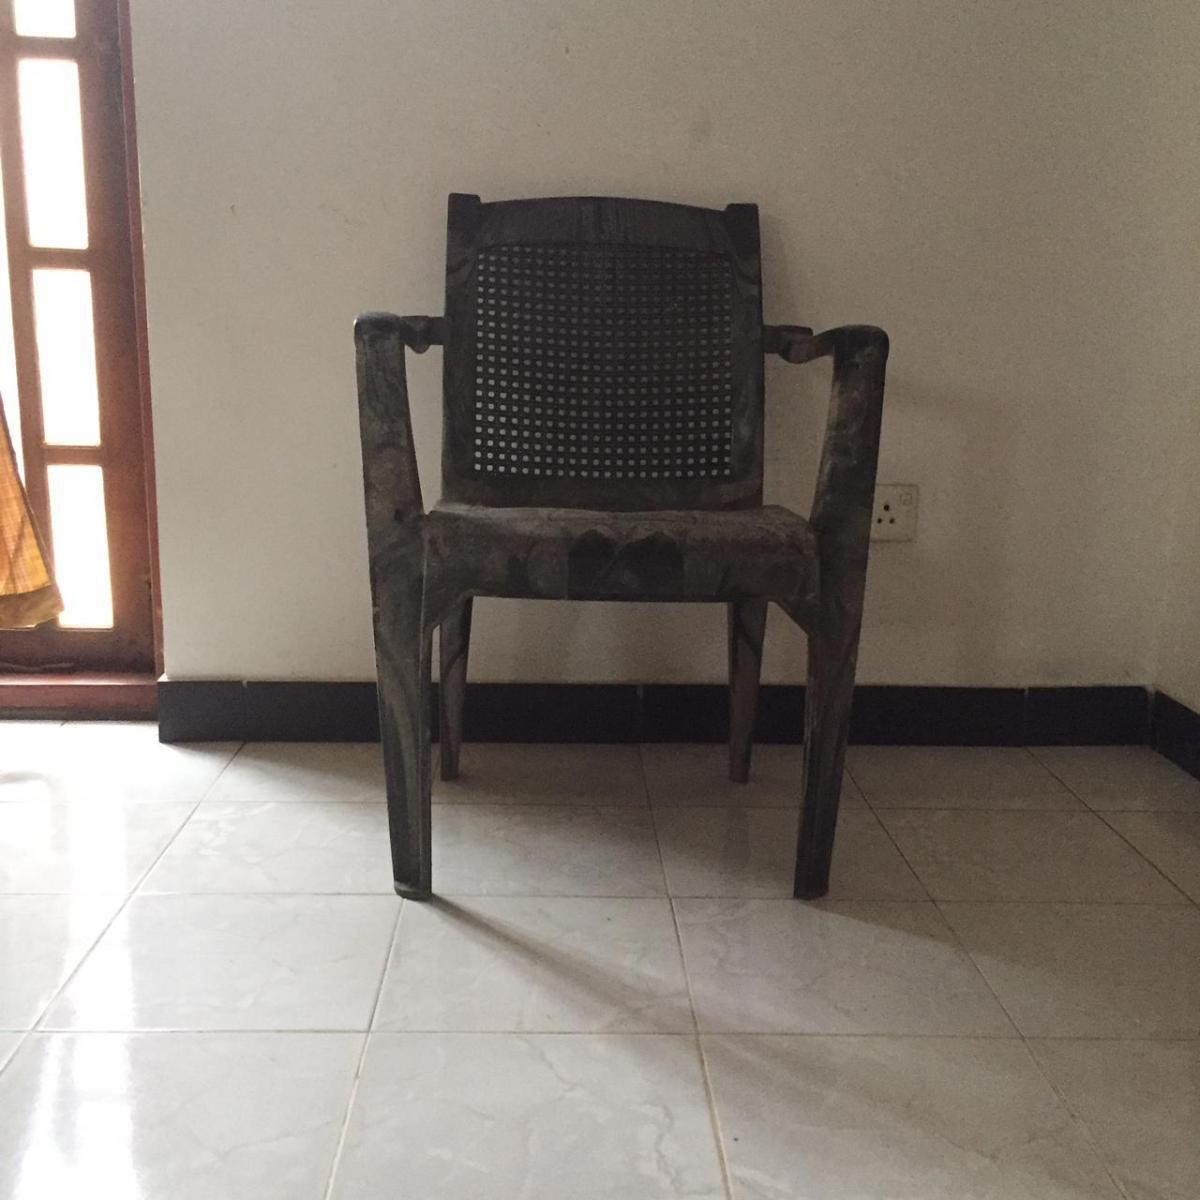Chair: (350, 191, 891, 902)
